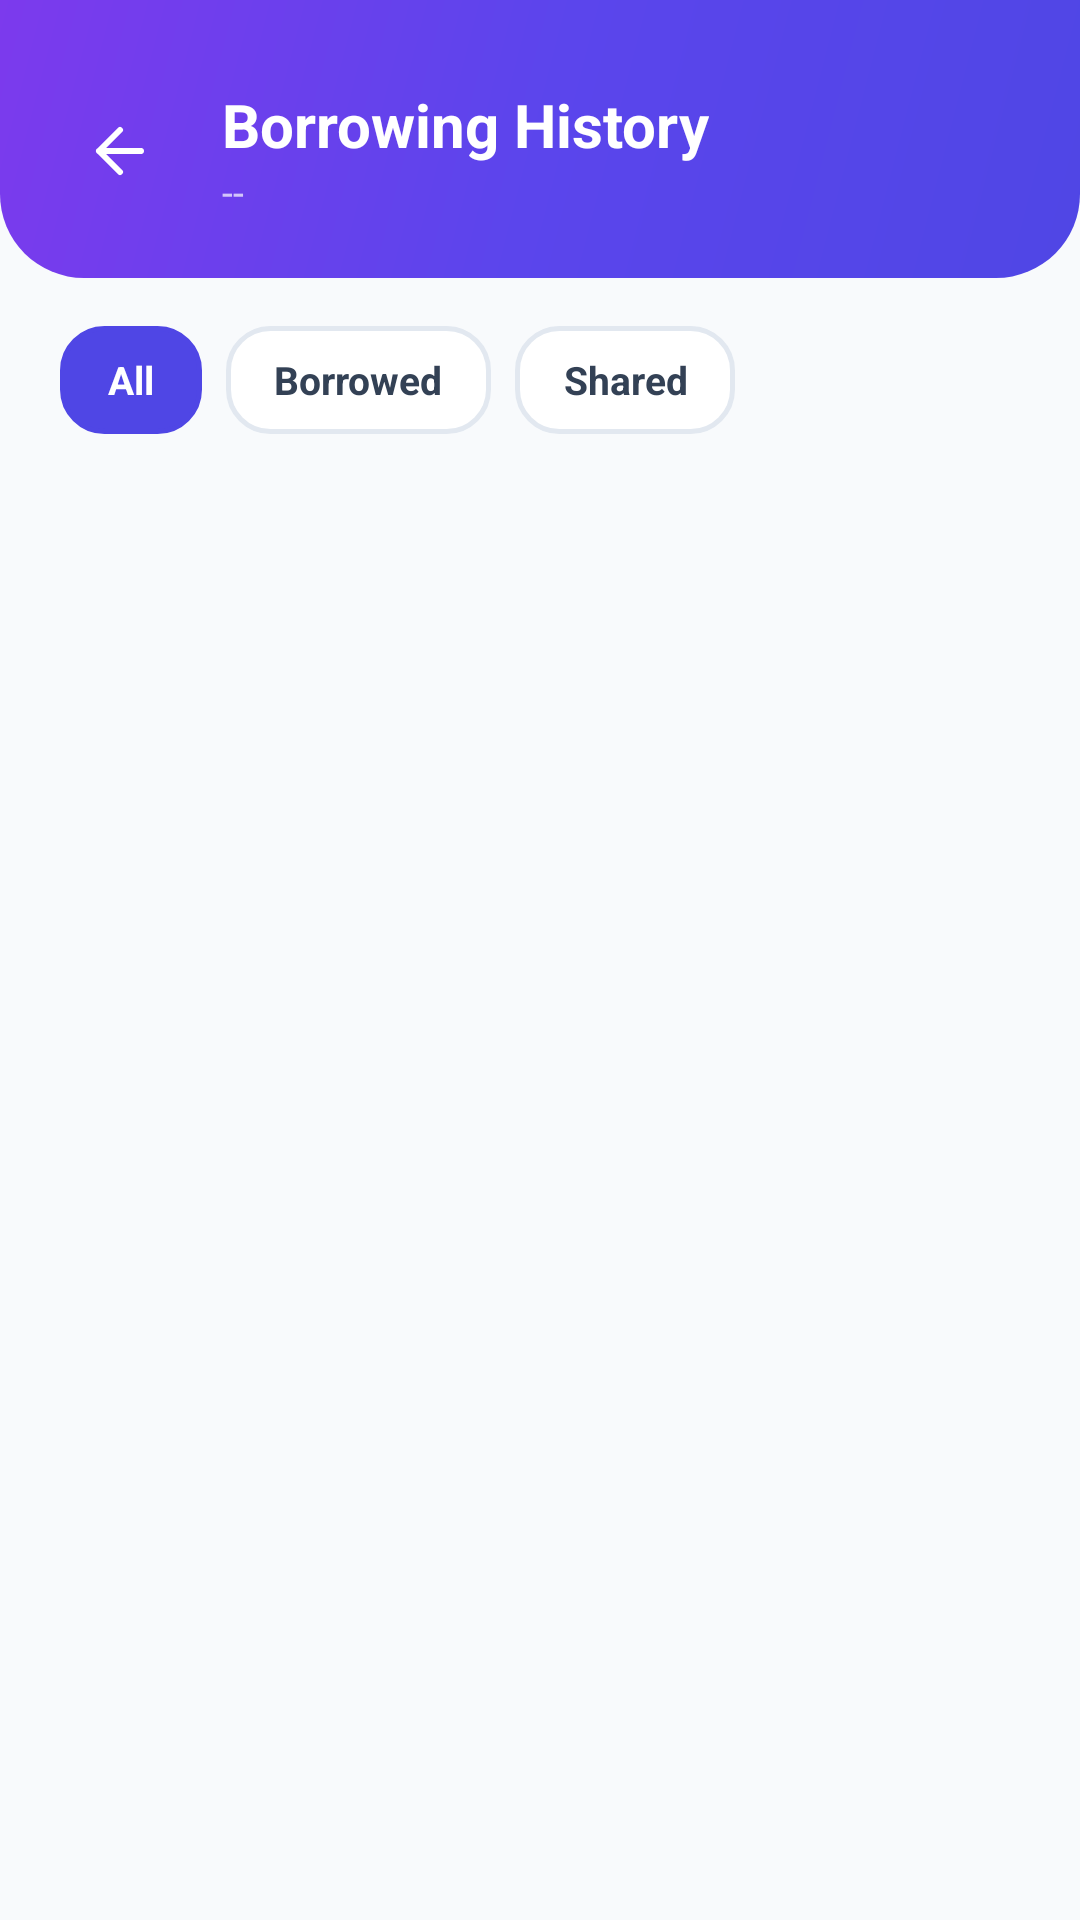

Icons on this 1080px×1920px Android screen, each with its box as [x1, y1, x2, y2]:
back: [96, 127, 144, 175]
